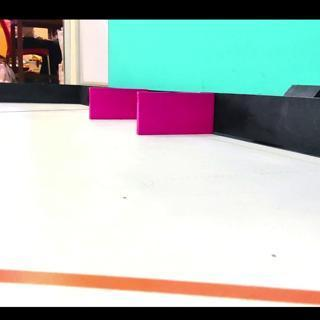xparking: (139, 94, 213, 136), (90, 90, 136, 120)
